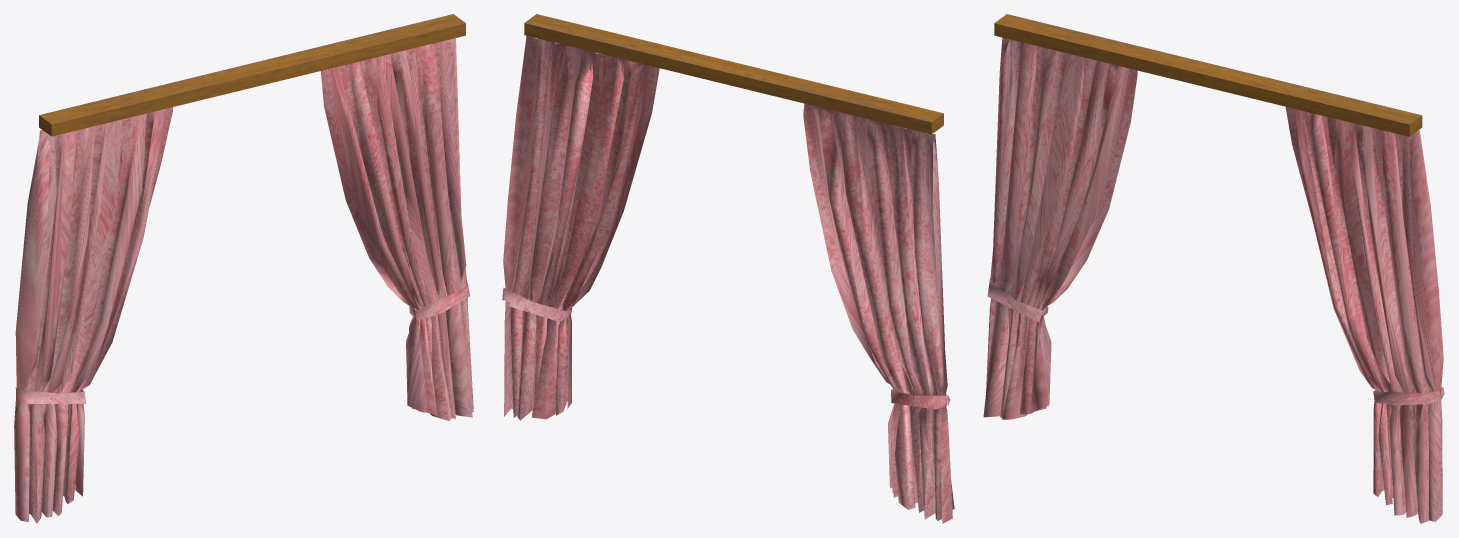
The model's file is cortina.obj.
3 renders of one model, left to right at view 1: azimuth 30°, elevation 25°; view 2: azimuth 150°, elevation 25°; view 3: azimuth 330°, elevation 25°, orthographic.
Size of the model in its own units: 8.26 by 6.99 by 0.6941.
Materials: 1 (1 with a texture image).
